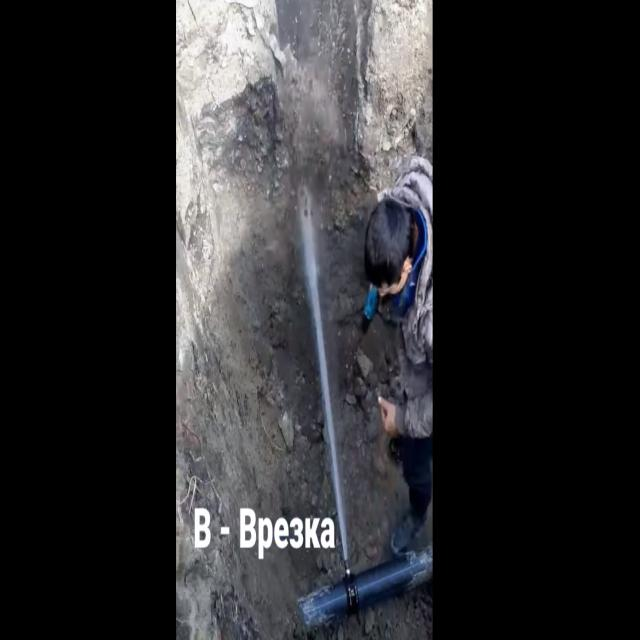leak: (297, 182, 350, 576)
